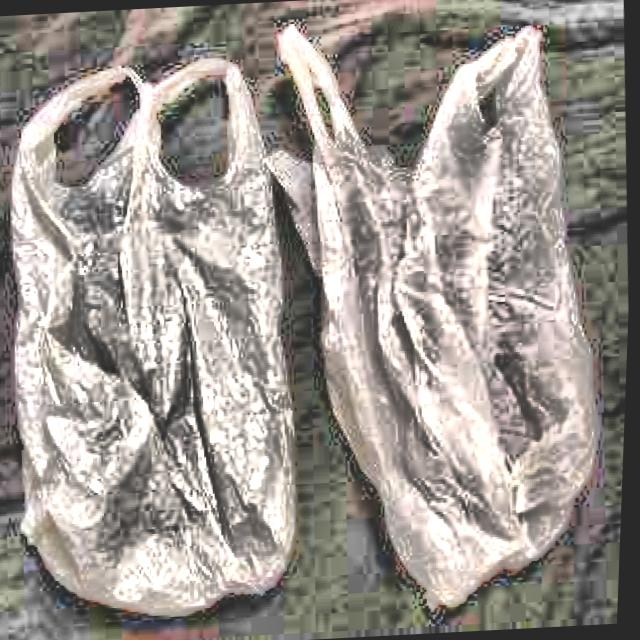Plastic: (237, 0, 624, 628), (0, 42, 337, 640)
